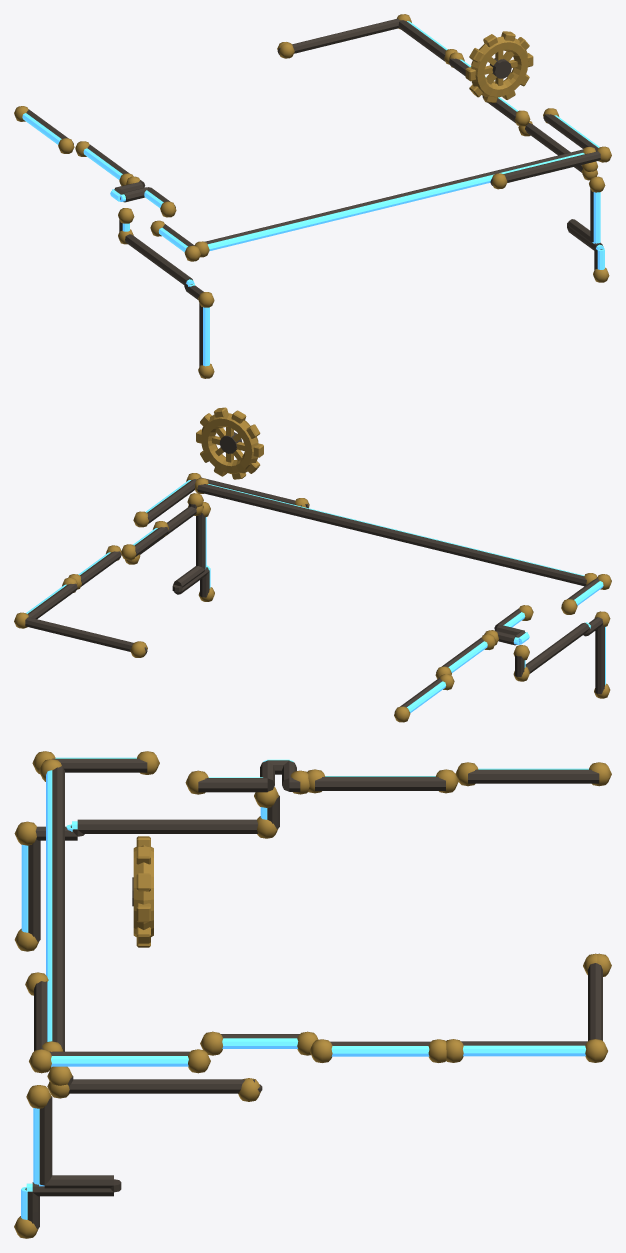
Rendered from alchimisterie-dress.glb.
The picture shows the model from 3 angles, top to bottom: view 1: azimuth 30°, elevation 25°; view 2: azimuth 150°, elevation 25°; view 3: azimuth 270°, elevation 25°; orthographic projection. The views are drawn at different scales.
Visible parts, largest first — view 1: alchimisterie-dress; view 2: alchimisterie-dress; view 3: alchimisterie-dress.
Part boxes in pixels (<box>): alchimisterie-dress: <box>14,14,611,378</box>; alchimisterie-dress: <box>14,407,611,722</box>; alchimisterie-dress: <box>14,751,611,1238</box>.
Bounding box in the file's own units: 2.52 × 1.33 × 2.06.
